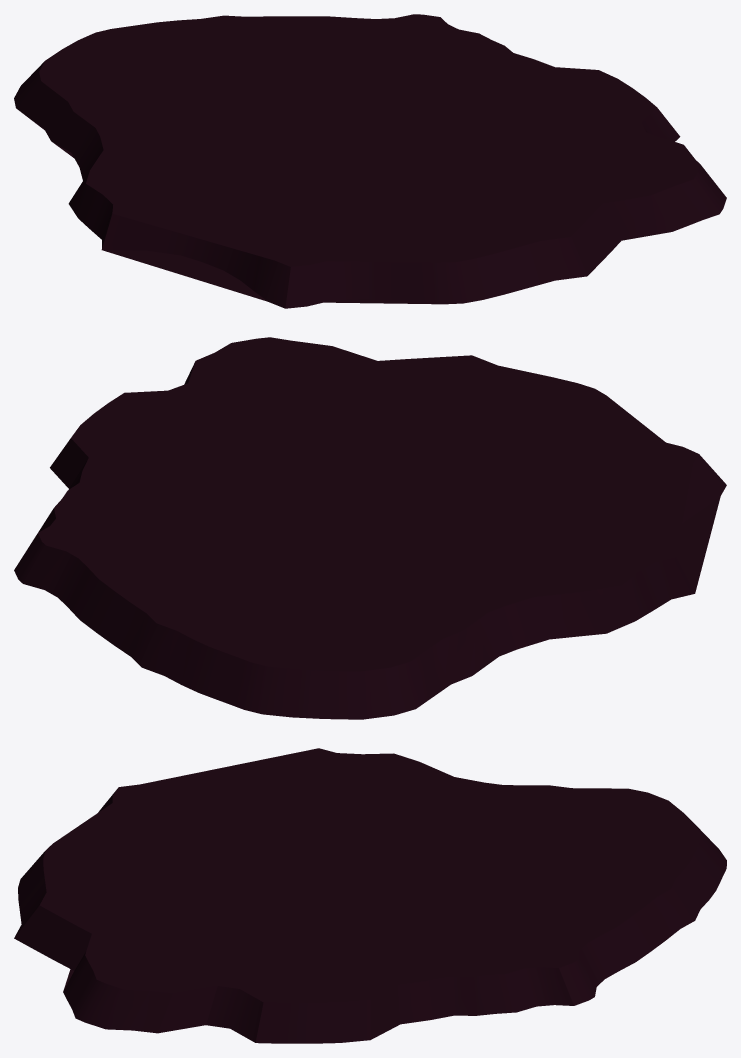
Rendered from volcanoground.fbx.
The picture shows the model from 3 angles, top to bottom: view 1: azimuth 30°, elevation 25°; view 2: azimuth 150°, elevation 25°; view 3: azimuth 270°, elevation 25°; orthographic projection. The views are drawn at different scales.
Visible parts, largest first — view 1: Plane.008; view 2: Plane.008; view 3: Plane.008.
Part boxes in pixels (box(x1,y1,x2,y2)): Plane.008: box(14, 14, 726, 308); Plane.008: box(14, 337, 726, 719); Plane.008: box(14, 748, 726, 1043).
Size of the model in its own units: 5518 by 296 by 6134.
